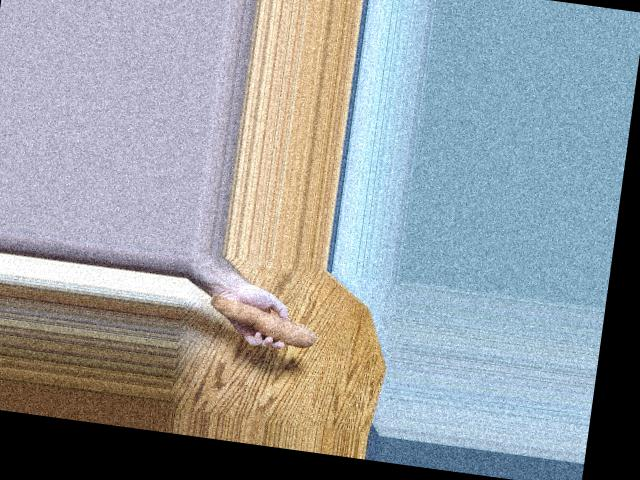sweet_potato: (210, 297, 322, 352)
